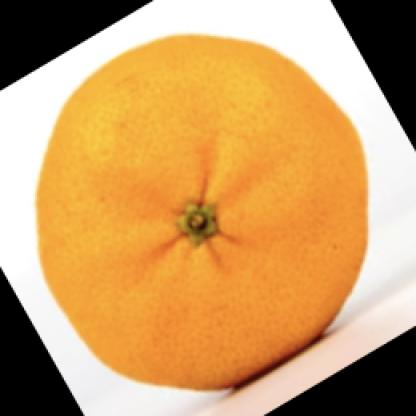fresh: (34, 34, 369, 388)
